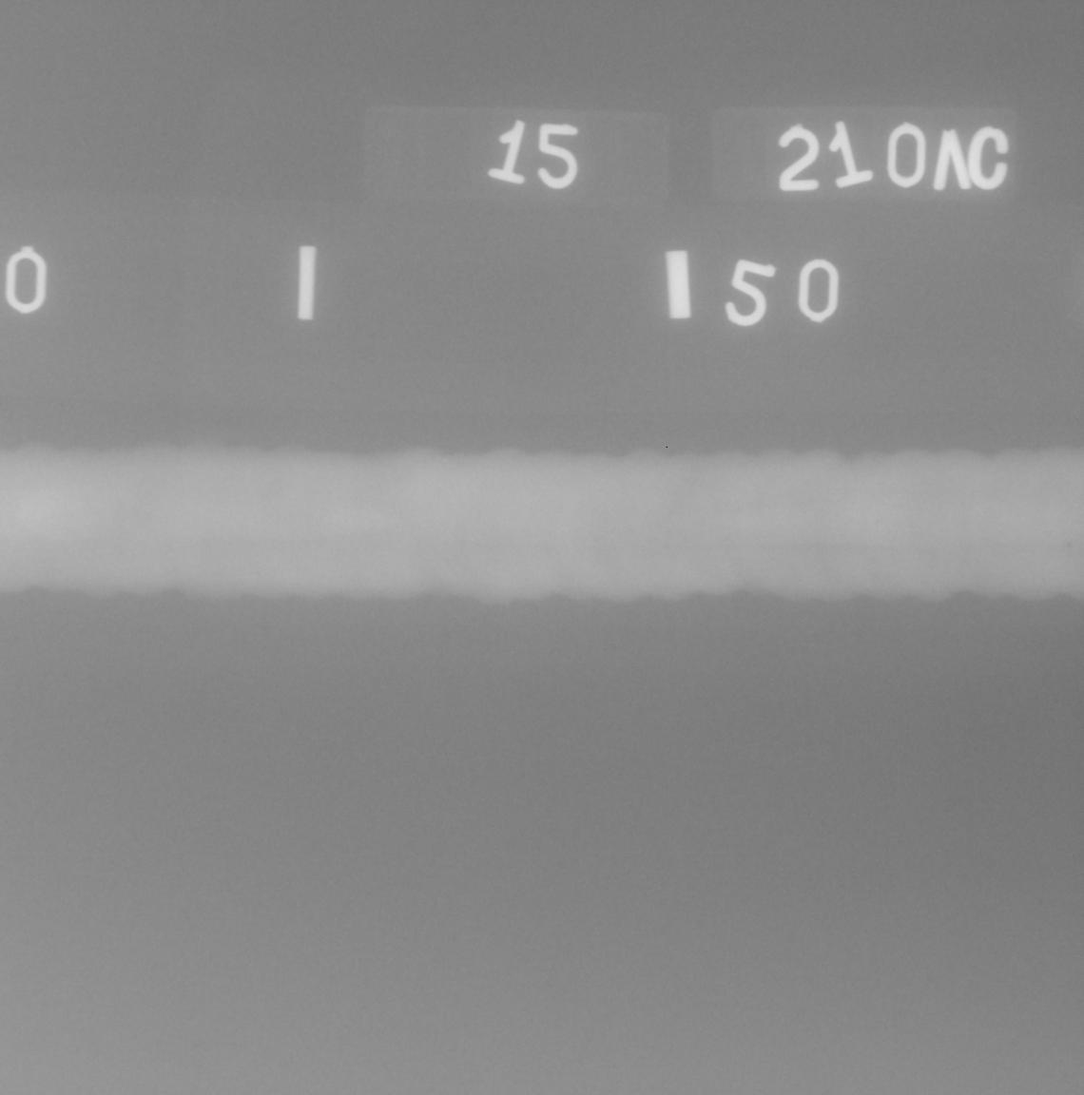Inclusion: (875, 520, 879, 525)
Pore/Porosity: (1067, 542, 1072, 547), (725, 539, 729, 542), (663, 545, 667, 548)
